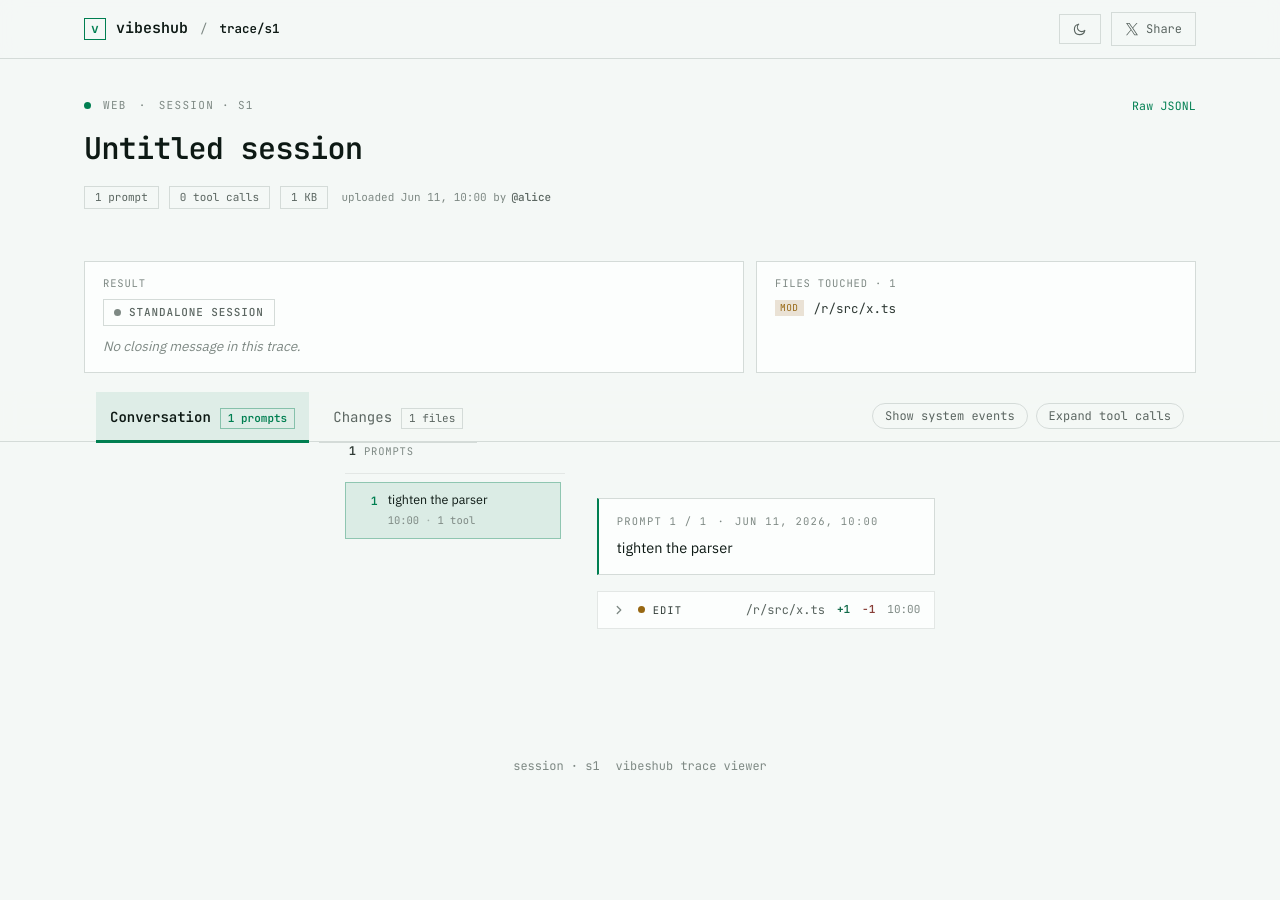
Test: TraceViewer changes mode › switches to the changes view and back, tracking the #changes hash
Step 1. Click the tab "Changes 1 files" → (398, 417), box [319,392,477,442]
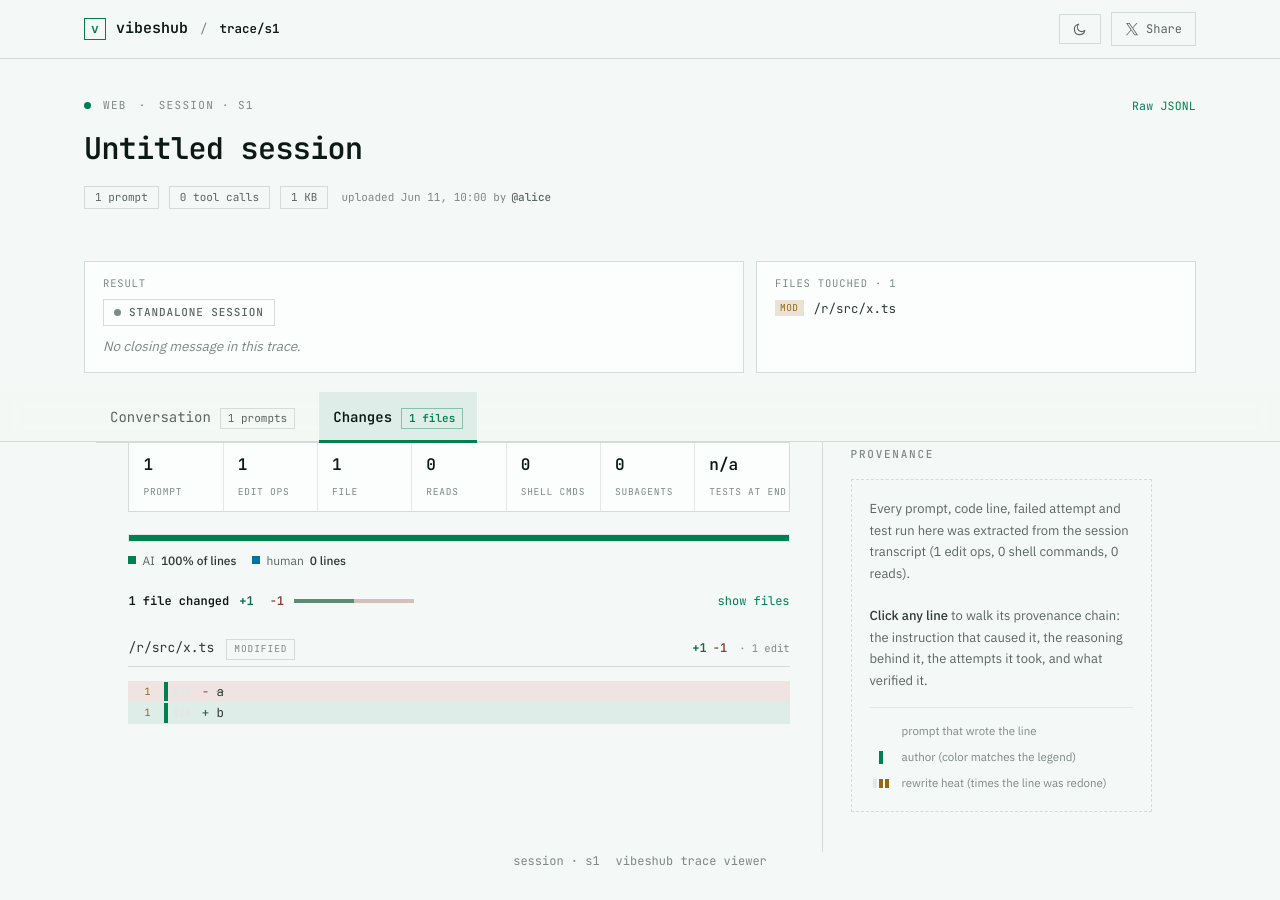
Expected: the button "/r/src/x.ts" is shown, [814,298,1177,318]
Step 2. Click the tab "Conversation 1 prompts" → (203, 417), box [96,392,309,442]
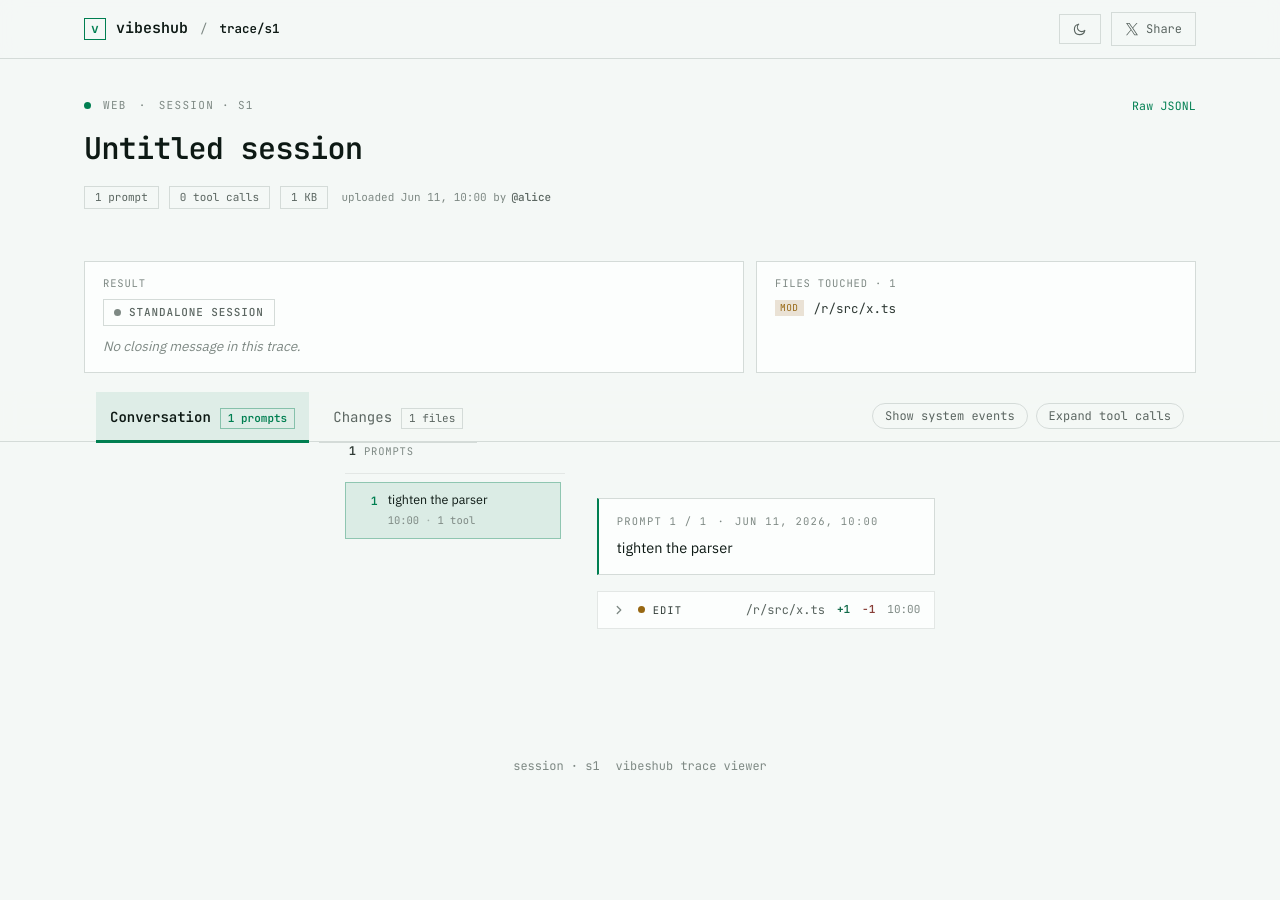
Now the button "Show system events" is shown, box [872,403,1028,429]
